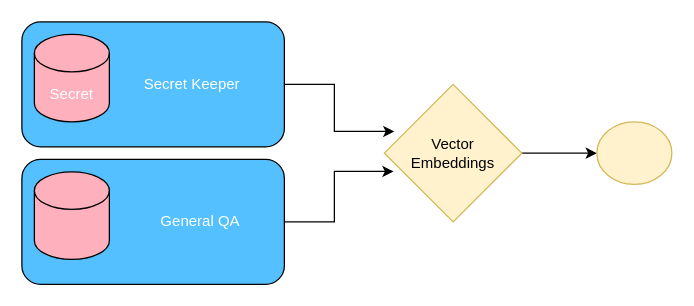
Some shapes in this 694 by 306 pixel diagram are drawn without their labels. The centre of each missing label's shape, as x and y in pixels:
"Cosine Similarity" goes at [634,152].
"General Context" goes at [71,215].
